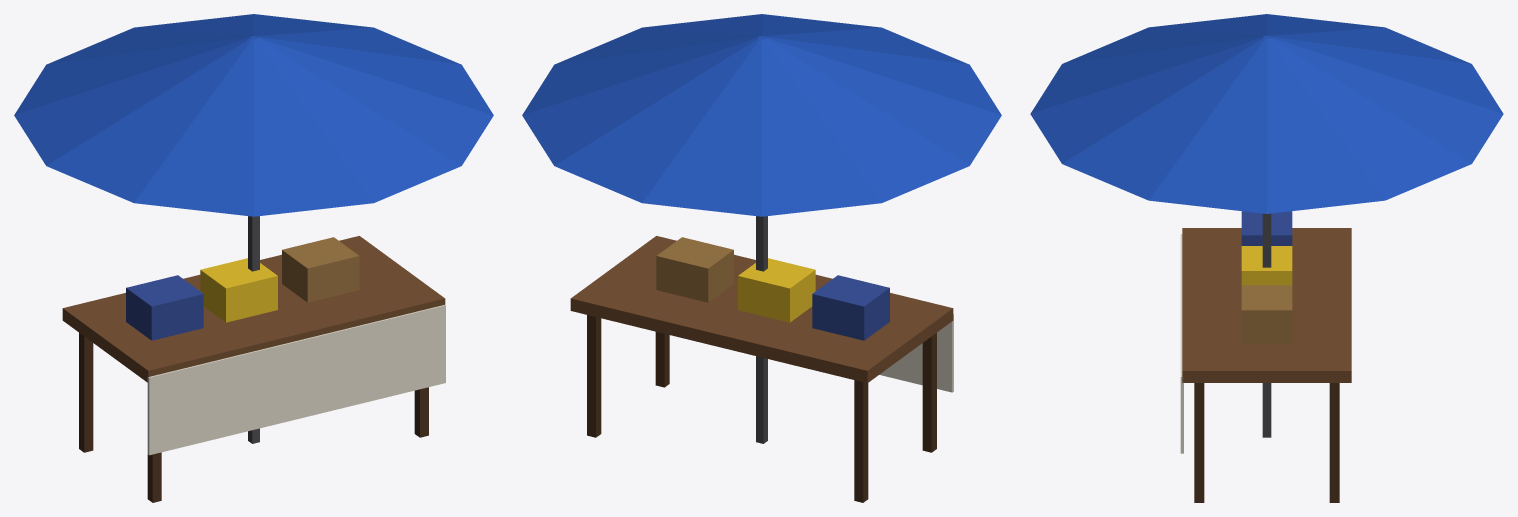
The model's file is market_stall_blue.glb.
The picture shows the model from 3 angles, left to right: view 1: azimuth 30°, elevation 25°; view 2: azimuth 150°, elevation 25°; view 3: azimuth 270°, elevation 25°; orthographic projection.
Visible parts, largest first — view 1: market_stall_blue; view 2: market_stall_blue; view 3: market_stall_blue.
Part boxes in pixels (x1,y1,x2,y2): market_stall_blue: (14,14,493,502); market_stall_blue: (522,14,1001,502); market_stall_blue: (1030,14,1503,502).
Bounding box in the file's own units: 2.8 × 2.6 × 2.8.
